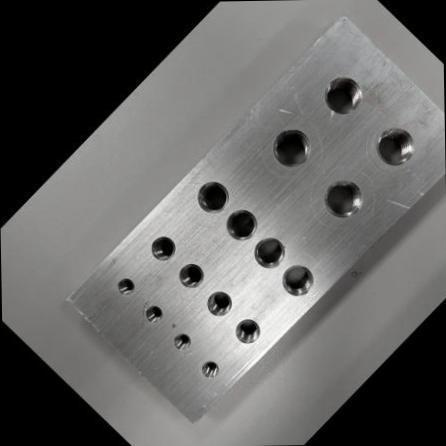hole: (366, 117, 425, 176), (314, 66, 372, 124), (315, 170, 373, 228), (263, 119, 321, 176), (245, 228, 294, 276), (189, 172, 237, 220), (274, 256, 322, 303), (218, 201, 266, 248), (172, 255, 212, 295), (228, 311, 268, 350), (200, 284, 239, 322), (145, 228, 183, 266), (196, 355, 224, 383), (140, 300, 166, 327), (113, 272, 140, 298), (169, 328, 195, 354)
